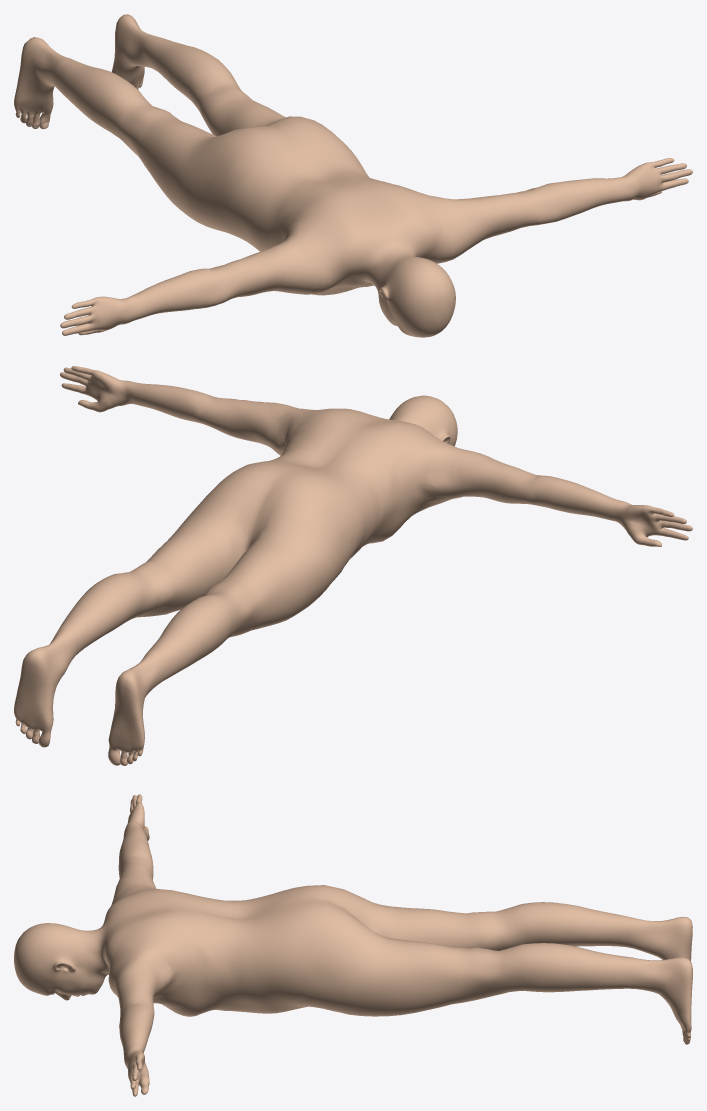
The model's file is mhr-soma-v1.glb.
The picture shows the model from 3 angles, top to bottom: view 1: azimuth 30°, elevation 25°; view 2: azimuth 150°, elevation 25°; view 3: azimuth 270°, elevation 25°; orthographic projection. The views are drawn at different scales.
Visible parts, largest first — view 1: SOMA; view 2: SOMA; view 3: SOMA.
Part boxes in pixels (bbox=[...]): SOMA: bbox=[14, 14, 692, 337]; SOMA: bbox=[14, 366, 692, 765]; SOMA: bbox=[14, 794, 692, 1096].
Bounding box in the file's own units: 1.75 × 0.3628 × 1.74.
